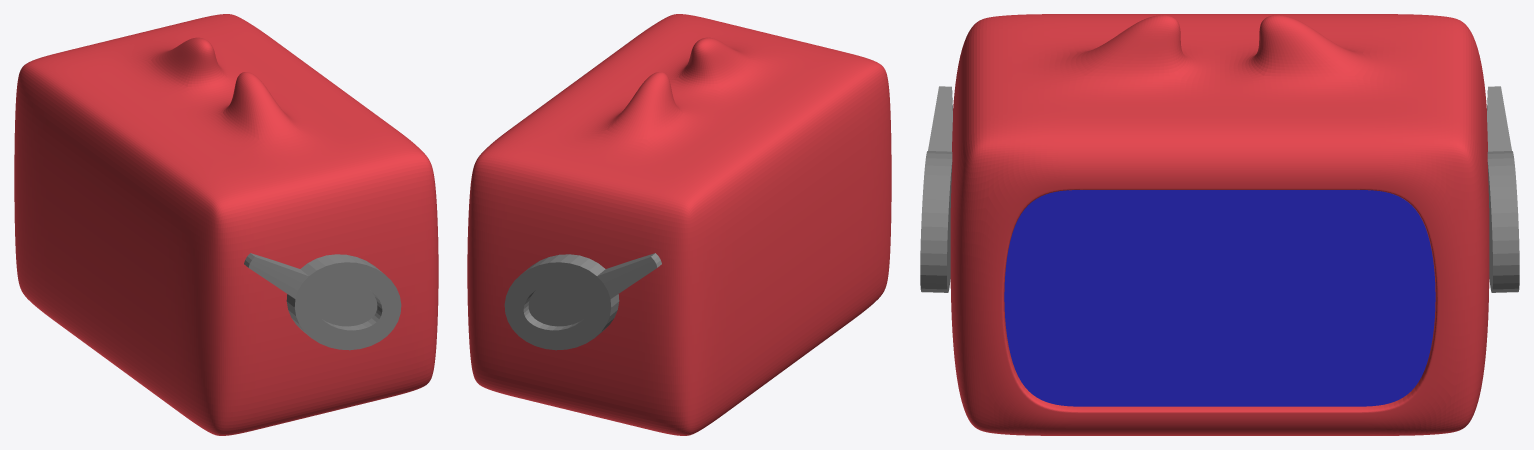
File: monster_B.fbx
3 views of the same model, side by side, from view 1: azimuth 30°, elevation 25°; view 2: azimuth 150°, elevation 25°; view 3: azimuth 270°, elevation 25° (orthographic). The views are drawn at different scales.
Parts seen in each view (by area): view 1: 큐브, 실린더; view 2: 큐브, 실린더; view 3: 큐브, 평면, 실린더.
Part boxes in pixels (x1=…): 큐브: x1=14, y1=14, x2=438, y2=435; 실린더: x1=244, y1=253, x2=401, y2=350; 큐브: x1=467, y1=14, x2=891, y2=435; 실린더: x1=504, y1=253, x2=661, y2=350; 큐브: x1=950, y1=14, x2=1489, y2=435; 평면: x1=1004, y1=190, x2=1435, y2=406; 실린더: x1=920, y1=86, x2=1519, y2=292.
Size of the model in its own units: 593 by 701 by 1049.
